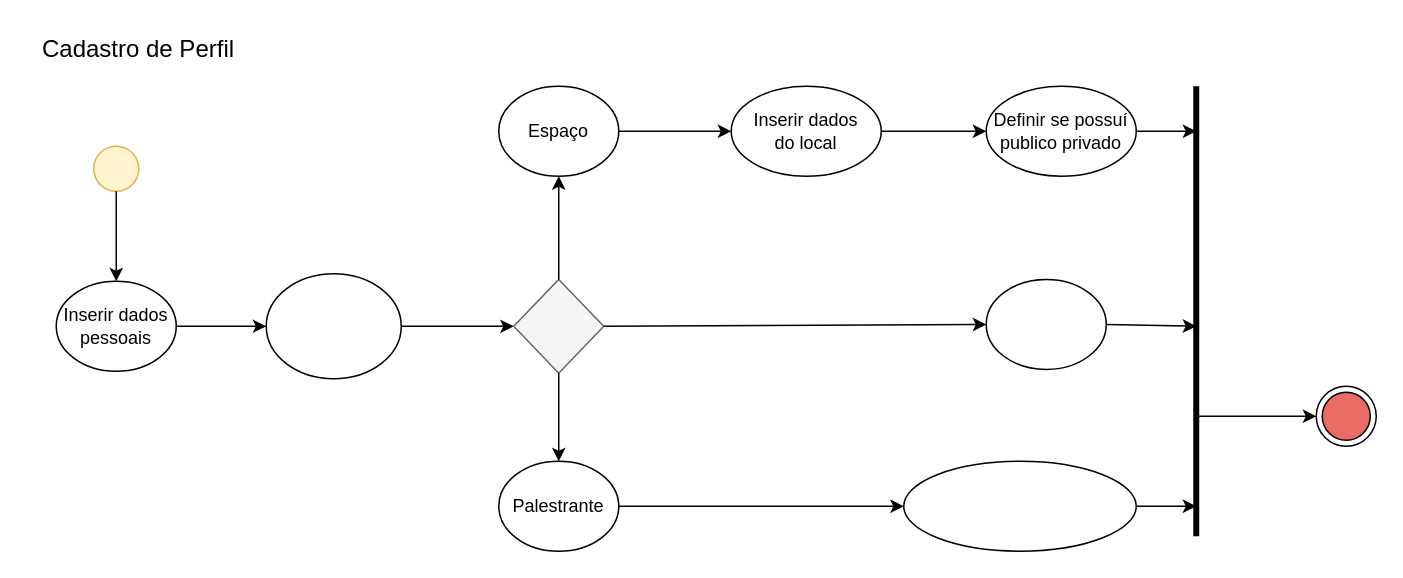
The diagram is 1403 pixels wide and 578 high, and some of its shapes have lost their labels. Each missing label, with the box of its shape:
Inserir dados Profissionais/Estudantis: (902, 460, 1136, 551)
Selecionar Tipo de conta: (265, 272, 401, 379)
Usuário: (985, 278, 1106, 369)
